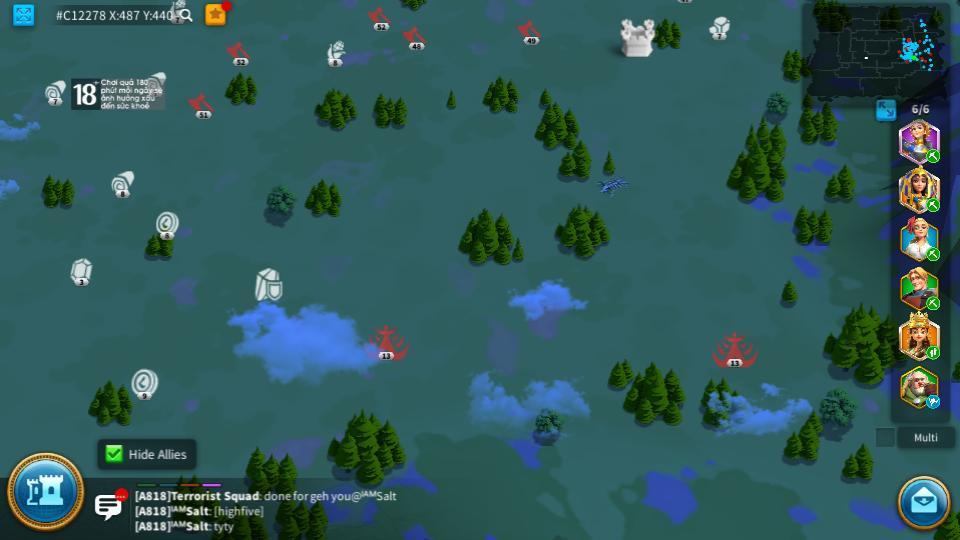gem-z-out: (69, 257, 94, 283)
march_farming: (923, 197, 940, 212), (925, 345, 941, 359), (925, 297, 942, 310), (925, 149, 942, 162), (925, 249, 941, 261)
